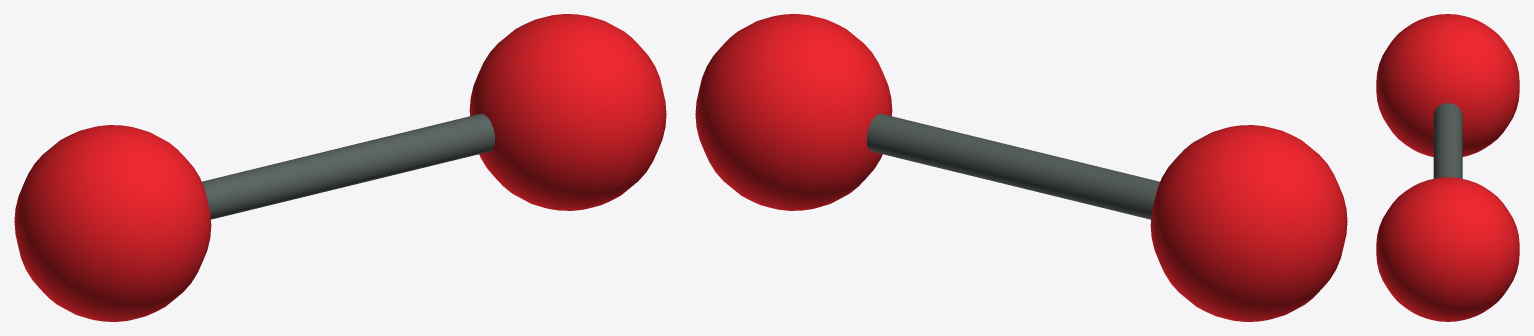
3 renders of one model, left to right at view 1: azimuth 30°, elevation 25°; view 2: azimuth 150°, elevation 25°; view 3: azimuth 270°, elevation 25°, orthographic. The views are drawn at different scales.
Visible parts, largest first — view 1: Сферы_Node (×2), Цилиндр_Node; view 2: Сферы_Node (×2), Цилиндр_Node; view 3: Сферы_Node (×2), Цилиндр_Node.
Boxes of the visible parts, x1=… form: Сферы_Node (×2): x1=14, y1=14, x2=666, y2=321; Цилиндр_Node: x1=202, y1=113, x2=494, y2=219; Сферы_Node (×2): x1=695, y1=14, x2=1347, y2=321; Цилиндр_Node: x1=867, y1=113, x2=1159, y2=219; Сферы_Node (×2): x1=1376, y1=14, x2=1519, y2=321; Цилиндр_Node: x1=1433, y1=103, x2=1462, y2=178.
Size of the model in its own units: 4.33 by 1.18 by 1.17.
Materials: 2 (1 with a texture image).
